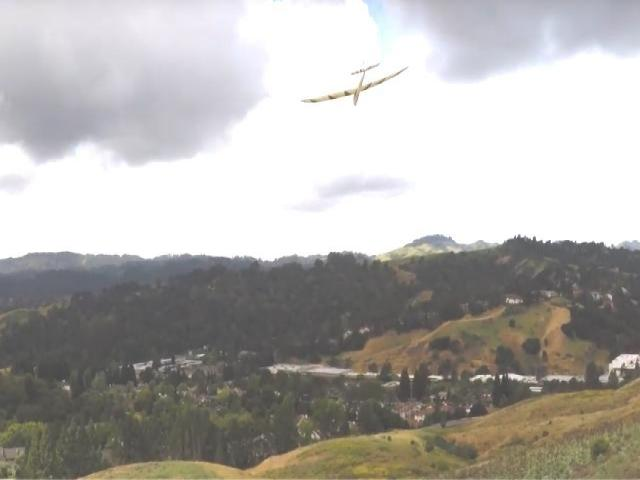iha: (300, 46, 416, 110)
